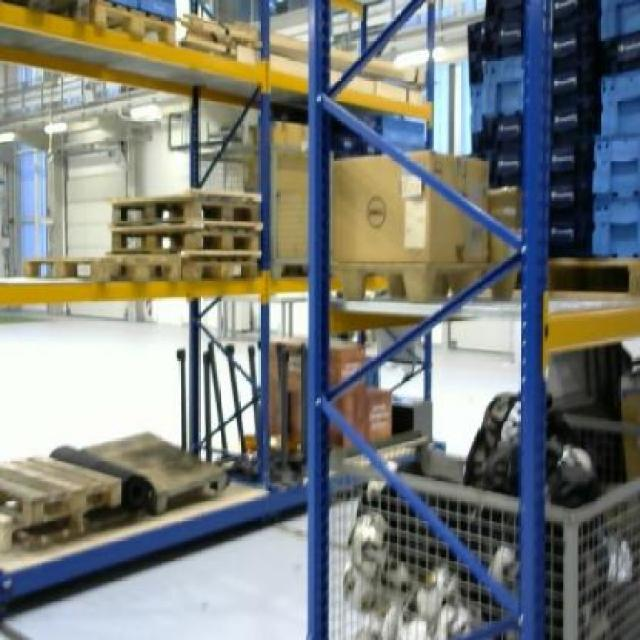box: (330, 148, 490, 264), (271, 120, 311, 258)
